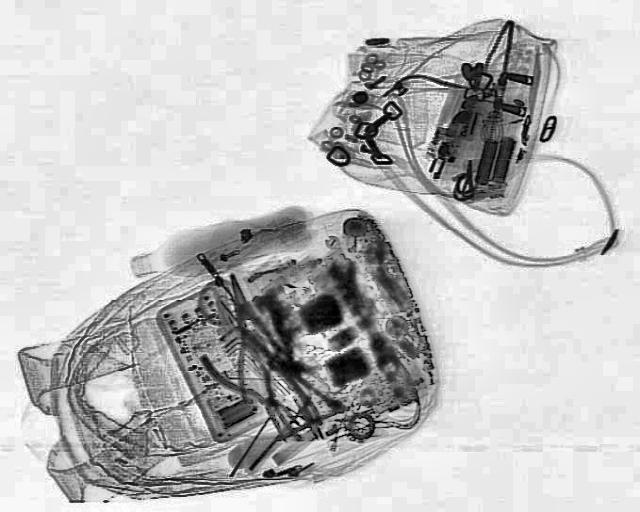Pliers: (196, 268, 312, 404), (194, 336, 320, 446)
